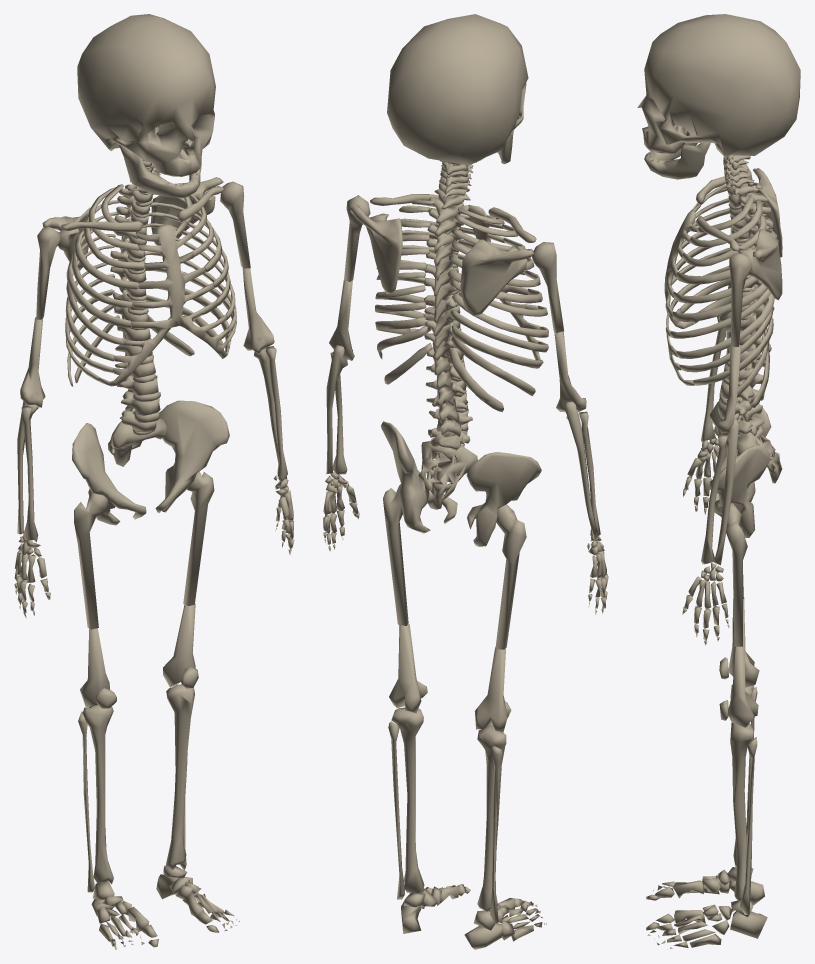
The model's file is pediatric_child_5y_male.skeletal.LOD3.glb.
The picture shows the model from 3 angles, left to right: view 1: azimuth 30°, elevation 25°; view 2: azimuth 150°, elevation 25°; view 3: azimuth 270°, elevation 25°; orthographic projection.
Visible parts, largest first — view 1: PEDIATRIC.CHILD_5Y.MALE.SKELETAL.CRANIUM_CORTICAL, PEDIATRIC.CHILD_5Y.MALE.SKELETAL.RIBS_CORTICAL, PEDIATRIC.CHILD_5Y.MALE.SKELETAL.PELVIS_CORTICAL, PEDIATRIC.CHILD_5Y.MALE.SKELETAL.CARTILAGE_TRUNK, PEDIATRIC.CHILD_5Y.MALE.SKELETAL.TIBIAE_CORTICAL, PEDIATRIC.CHILD_5Y.MALE.SKELETAL.ANKLES_AND_FOOT_CORTICAL, PEDIATRIC.CHILD_5Y.MALE.SKELETAL.FEMORA_UPPER_CORTICAL, PEDIATRIC.CHILD_5Y.MALE.SKELETAL.THORACIC_SPINE_CORTICAL, PEDIATRIC.CHILD_5Y.MALE.SKELETAL.FEMORA_LOWER_CORTICAL, PEDIATRIC.CHILD_5Y.MALE.SKELETAL.HUMERI_UPPER_CORTICAL, PEDIATRIC.CHILD_5Y.MALE.SKELETAL.HUMERI_LOWER_CORTICAL, PEDIATRIC.CHILD_5Y.MALE.SKELETAL.WRISTS_AND_HAND_BONES_CORTI (+9 smaller); view 2: PEDIATRIC.CHILD_5Y.MALE.SKELETAL.CRANIUM_CORTICAL, PEDIATRIC.CHILD_5Y.MALE.SKELETAL.RIBS_CORTICAL, PEDIATRIC.CHILD_5Y.MALE.SKELETAL.PELVIS_CORTICAL, PEDIATRIC.CHILD_5Y.MALE.SKELETAL.SCAPULAE_CORTICAL, PEDIATRIC.CHILD_5Y.MALE.SKELETAL.TIBIAE_CORTICAL, PEDIATRIC.CHILD_5Y.MALE.SKELETAL.THORACIC_SPINE_CORTICAL, PEDIATRIC.CHILD_5Y.MALE.SKELETAL.FEMORA_UPPER_CORTICAL, PEDIATRIC.CHILD_5Y.MALE.SKELETAL.ANKLES_AND_FOOT_CORTICAL, PEDIATRIC.CHILD_5Y.MALE.SKELETAL.FEMORA_LOWER_CORTICAL, PEDIATRIC.CHILD_5Y.MALE.SKELETAL.LUMBAR_SPINE_CORTICAL, PEDIATRIC.CHILD_5Y.MALE.SKELETAL.WRISTS_AND_HAND_BONES_CORTI, PEDIATRIC.CHILD_5Y.MALE.SKELETAL.SACRUM_CORTICAL (+8 smaller); view 3: PEDIATRIC.CHILD_5Y.MALE.SKELETAL.CRANIUM_CORTICAL, PEDIATRIC.CHILD_5Y.MALE.SKELETAL.RIBS_CORTICAL, PEDIATRIC.CHILD_5Y.MALE.SKELETAL.ANKLES_AND_FOOT_CORTICAL, PEDIATRIC.CHILD_5Y.MALE.SKELETAL.WRISTS_AND_HAND_BONES_CORTI, PEDIATRIC.CHILD_5Y.MALE.SKELETAL.PELVIS_CORTICAL, PEDIATRIC.CHILD_5Y.MALE.SKELETAL.SCAPULAE_CORTICAL, PEDIATRIC.CHILD_5Y.MALE.SKELETAL.TIBIAE_CORTICAL, PEDIATRIC.CHILD_5Y.MALE.SKELETAL.CARTILAGE_TRUNK, PEDIATRIC.CHILD_5Y.MALE.SKELETAL.FEMORA_LOWER_CORTICAL, PEDIATRIC.CHILD_5Y.MALE.SKELETAL.RADII_CORTICAL, PEDIATRIC.CHILD_5Y.MALE.SKELETAL.LUMBAR_SPINE_CORTICAL, PEDIATRIC.CHILD_5Y.MALE.SKELETAL.FEMORA_UPPER_CORTICAL (+9 smaller).
Boxes of the visible parts, <box> form: PEDIATRIC.CHILD_5Y.MALE.SKELETAL.CRANIUM_CORTICAL: <box>77,14,215,176</box>; PEDIATRIC.CHILD_5Y.MALE.SKELETAL.RIBS_CORTICAL: <box>65,184,236,386</box>; PEDIATRIC.CHILD_5Y.MALE.SKELETAL.PELVIS_CORTICAL: <box>72,400,229,525</box>; PEDIATRIC.CHILD_5Y.MALE.SKELETAL.CARTILAGE_TRUNK: <box>98,160,229,435</box>; PEDIATRIC.CHILD_5Y.MALE.SKELETAL.TIBIAE_CORTICAL: <box>83,684,194,884</box>; PEDIATRIC.CHILD_5Y.MALE.SKELETAL.ANKLES_AND_FOOT_CORTICAL: <box>91,865,239,949</box>; PEDIATRIC.CHILD_5Y.MALE.SKELETAL.FEMORA_UPPER_CORTICAL: <box>74,471,214,629</box>; PEDIATRIC.CHILD_5Y.MALE.SKELETAL.THORACIC_SPINE_CORTICAL: <box>110,184,152,340</box>; PEDIATRIC.CHILD_5Y.MALE.SKELETAL.FEMORA_LOWER_CORTICAL: <box>80,603,195,707</box>; PEDIATRIC.CHILD_5Y.MALE.SKELETAL.HUMERI_UPPER_CORTICAL: <box>36,181,250,319</box>; PEDIATRIC.CHILD_5Y.MALE.SKELETAL.HUMERI_LOWER_CORTICAL: <box>20,268,274,407</box>; PEDIATRIC.CHILD_5Y.MALE.SKELETAL.WRISTS_AND_HAND_BONES_CORTI: <box>14,475,294,618</box>; PEDIATRIC.CHILD_5Y.MALE.SKELETAL.CRANIUM_CORTICAL: <box>387,14,528,165</box>; PEDIATRIC.CHILD_5Y.MALE.SKELETAL.RIBS_CORTICAL: <box>375,200,548,412</box>; PEDIATRIC.CHILD_5Y.MALE.SKELETAL.PELVIS_CORTICAL: <box>381,421,541,546</box>; PEDIATRIC.CHILD_5Y.MALE.SKELETAL.SCAPULAE_CORTICAL: <box>350,205,534,316</box>; PEDIATRIC.CHILD_5Y.MALE.SKELETAL.TIBIAE_CORTICAL: <box>391,707,506,911</box>; PEDIATRIC.CHILD_5Y.MALE.SKELETAL.THORACIC_SPINE_CORTICAL: <box>423,197,469,375</box>; PEDIATRIC.CHILD_5Y.MALE.SKELETAL.FEMORA_UPPER_CORTICAL: <box>383,484,526,649</box>; PEDIATRIC.CHILD_5Y.MALE.SKELETAL.ANKLES_AND_FOOT_CORTICAL: <box>401,884,546,949</box>; PEDIATRIC.CHILD_5Y.MALE.SKELETAL.FEMORA_LOWER_CORTICAL: <box>389,623,507,732</box>; PEDIATRIC.CHILD_5Y.MALE.SKELETAL.LUMBAR_SPINE_CORTICAL: <box>425,361,472,448</box>; PEDIATRIC.CHILD_5Y.MALE.SKELETAL.WRISTS_AND_HAND_BONES_CORTI: <box>323,472,608,614</box>; PEDIATRIC.CHILD_5Y.MALE.SKELETAL.SACRUM_CORTICAL: <box>418,437,477,509</box>; PEDIATRIC.CHILD_5Y.MALE.SKELETAL.CRANIUM_CORTICAL: <box>637,14,800,157</box>; PEDIATRIC.CHILD_5Y.MALE.SKELETAL.RIBS_CORTICAL: <box>670,182,777,407</box>; PEDIATRIC.CHILD_5Y.MALE.SKELETAL.ANKLES_AND_FOOT_CORTICAL: <box>646,867,767,948</box>; PEDIATRIC.CHILD_5Y.MALE.SKELETAL.WRISTS_AND_HAND_BONES_CORTI: <box>682,438,729,645</box>; PEDIATRIC.CHILD_5Y.MALE.SKELETAL.PELVIS_CORTICAL: <box>709,401,771,537</box>; PEDIATRIC.CHILD_5Y.MALE.SKELETAL.SCAPULAE_CORTICAL: <box>737,168,782,300</box>; PEDIATRIC.CHILD_5Y.MALE.SKELETAL.TIBIAE_CORTICAL: <box>730,684,754,901</box>; PEDIATRIC.CHILD_5Y.MALE.SKELETAL.CARTILAGE_TRUNK: <box>664,157,751,437</box>; PEDIATRIC.CHILD_5Y.MALE.SKELETAL.FEMORA_LOWER_CORTICAL: <box>728,597,759,727</box>; PEDIATRIC.CHILD_5Y.MALE.SKELETAL.RADII_CORTICAL: <box>701,316,727,564</box>; PEDIATRIC.CHILD_5Y.MALE.SKELETAL.LUMBAR_SPINE_CORTICAL: <box>718,344,765,435</box>; PEDIATRIC.CHILD_5Y.MALE.SKELETAL.FEMORA_UPPER_CORTICAL: <box>721,503,747,646</box>.
Size of the model in its own units: 0.3468 by 1.09 by 0.179.
